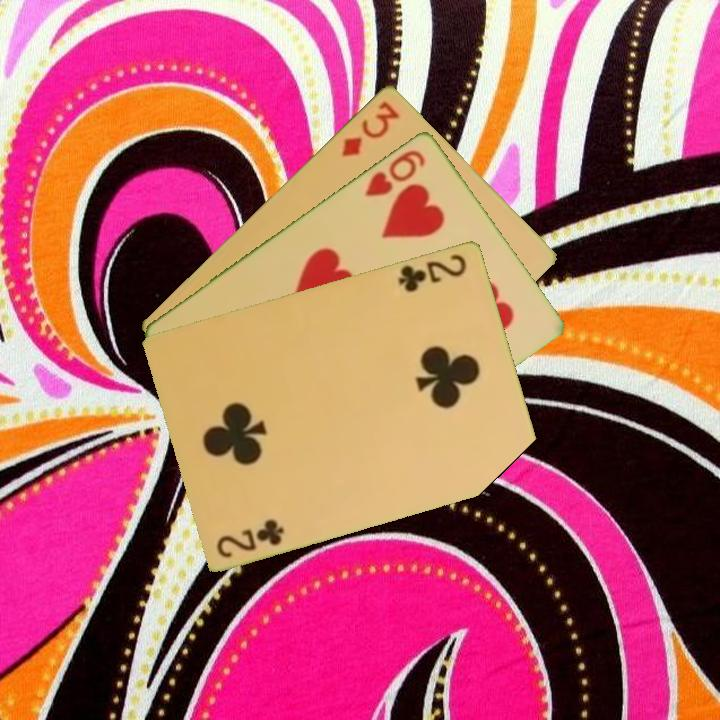2c: (394, 250, 470, 295), (213, 515, 288, 560)
3d: (337, 97, 403, 159)
6h: (361, 145, 428, 199)
